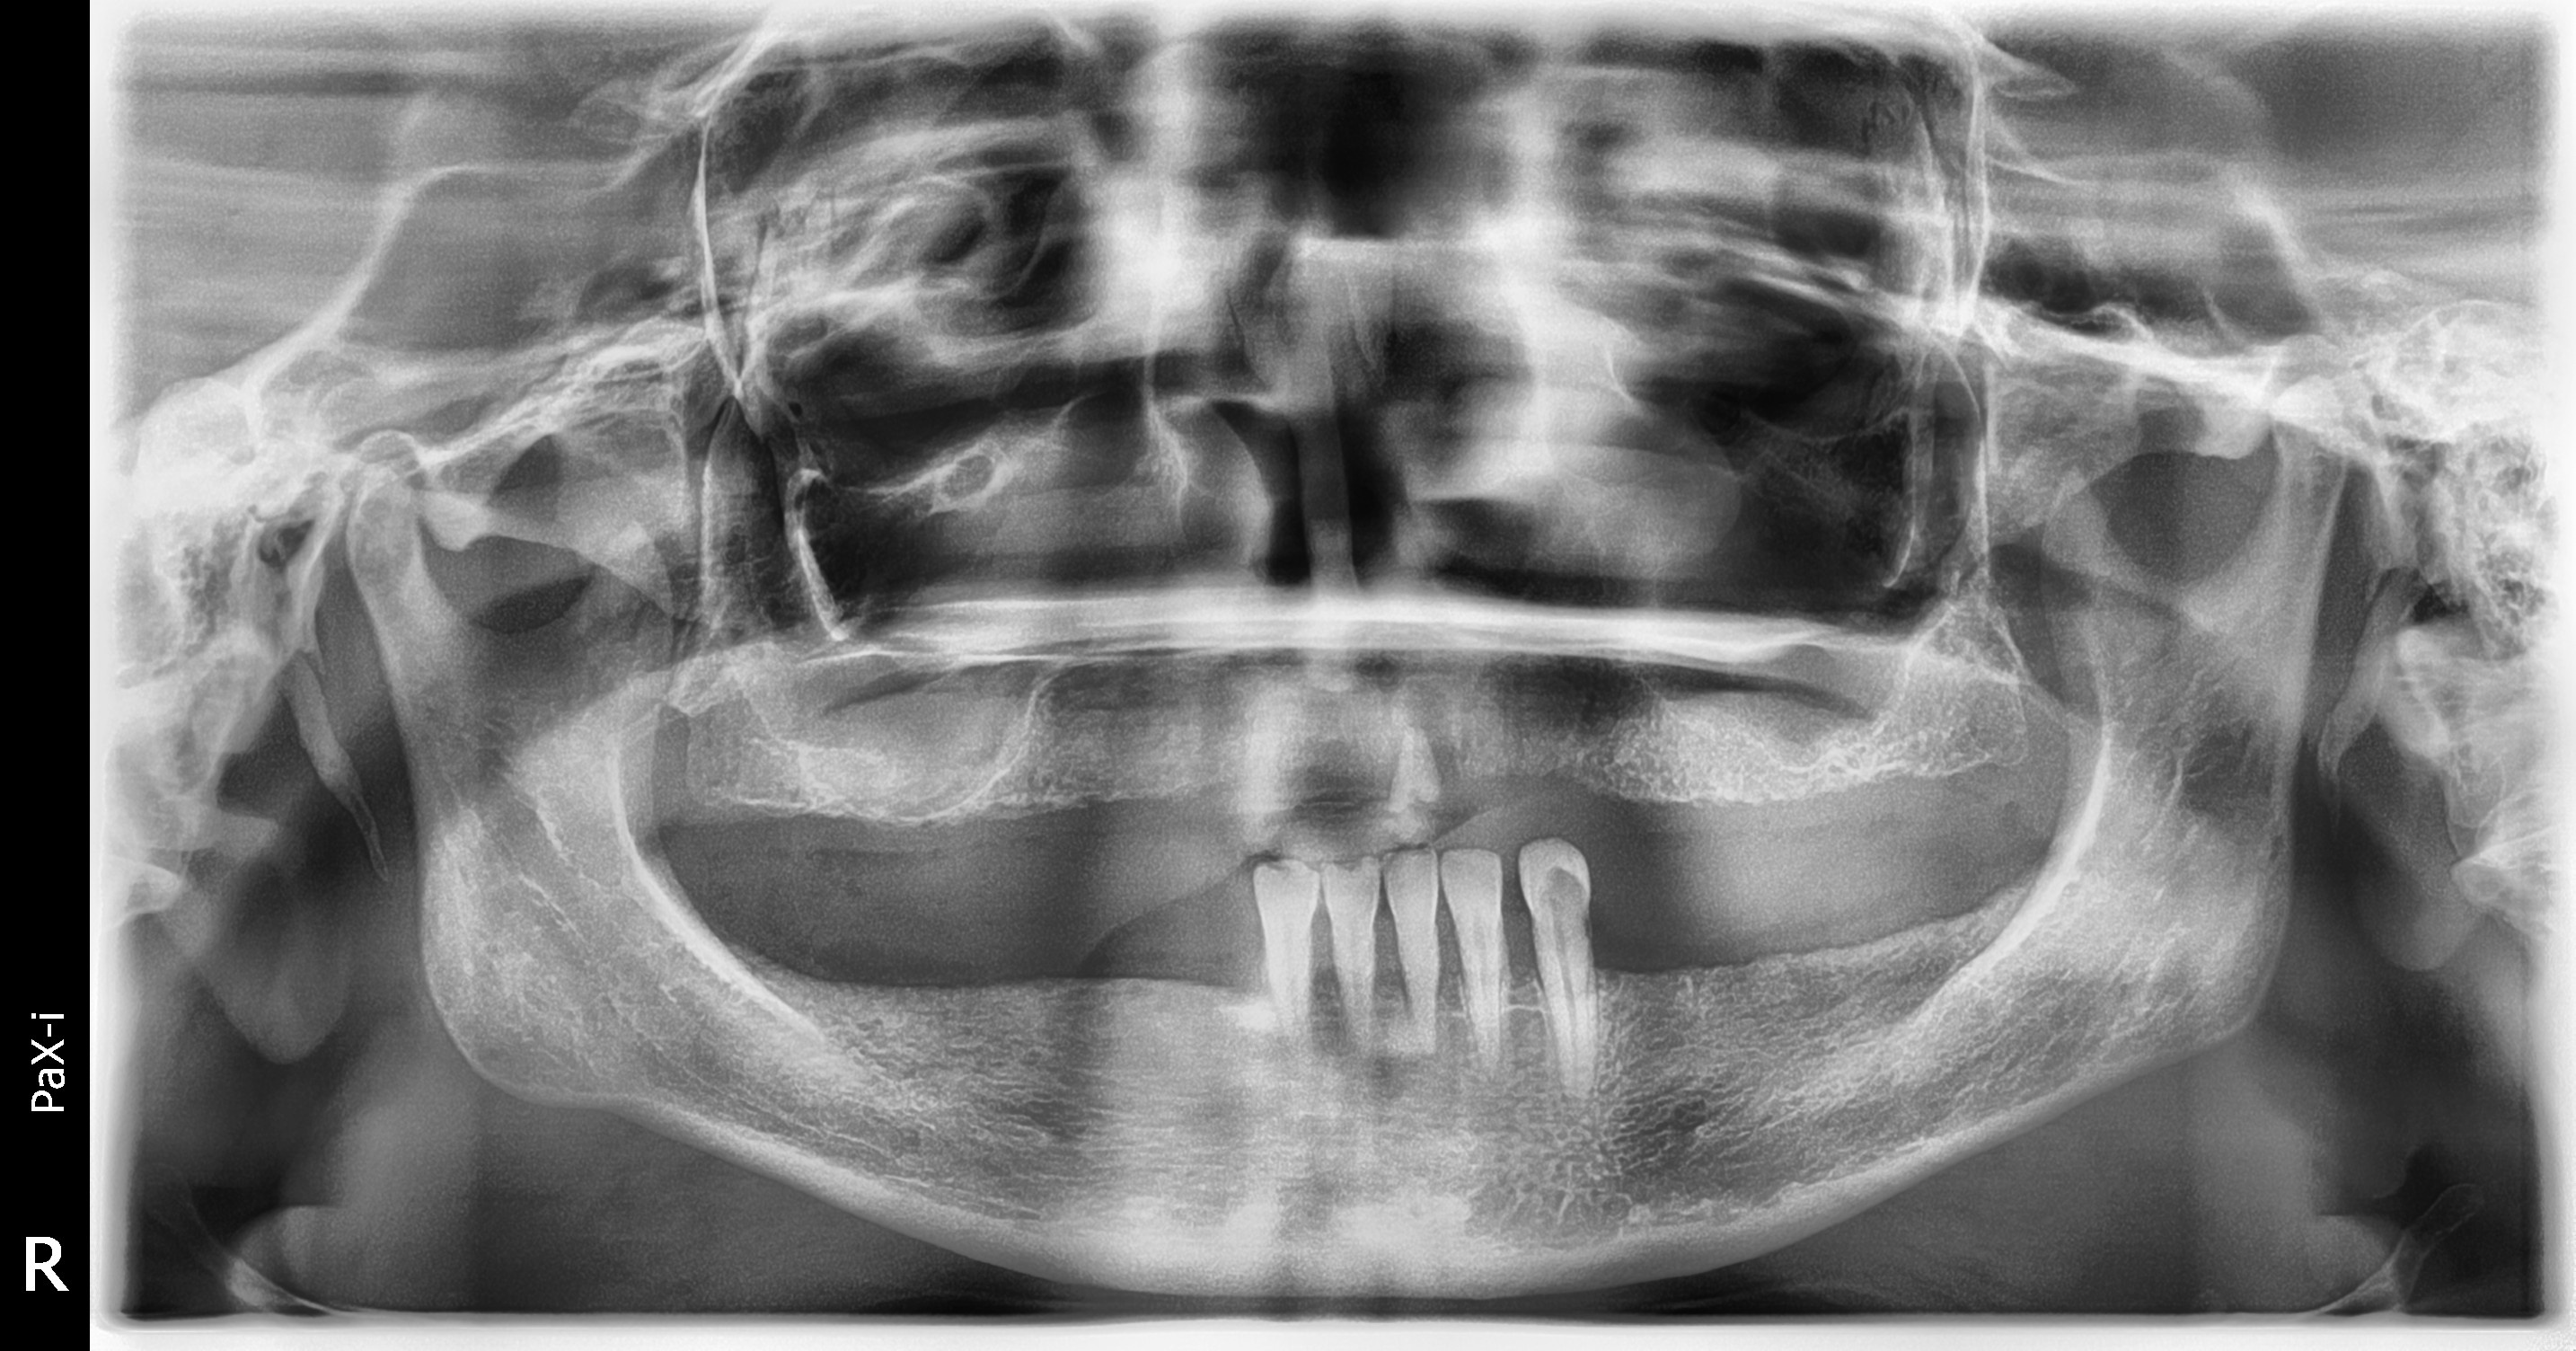BON: (1492, 920, 1547, 1009), (1361, 934, 1409, 1012), (1424, 920, 1469, 1000), (1297, 932, 1339, 1012)
ROT: (1353, 697, 1463, 828)
